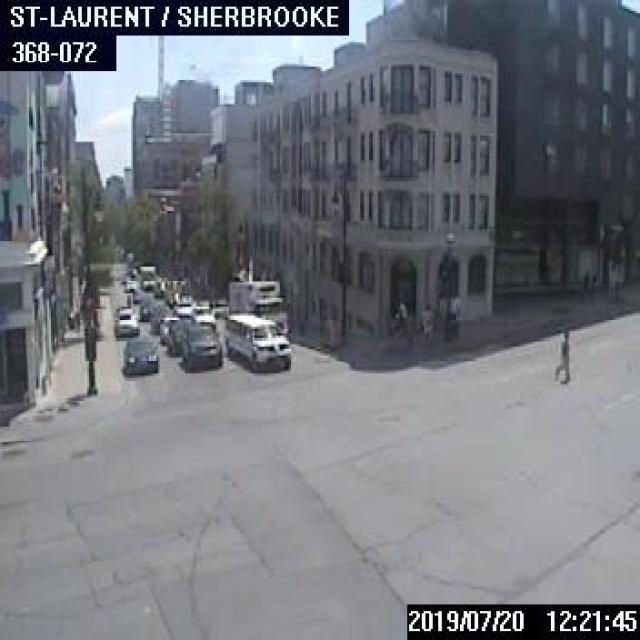pedestrian: (553, 327, 570, 378), (580, 268, 588, 296)
vehicle: (223, 312, 290, 370), (180, 322, 222, 372), (226, 277, 281, 313), (122, 336, 156, 373), (166, 317, 194, 353), (113, 306, 138, 336), (149, 303, 171, 331), (444, 293, 459, 334), (190, 304, 215, 328), (158, 314, 179, 342), (392, 298, 406, 336), (139, 296, 163, 318), (164, 278, 182, 304), (138, 263, 154, 288), (172, 298, 191, 316), (153, 275, 168, 295), (131, 287, 145, 301), (123, 277, 136, 290)
